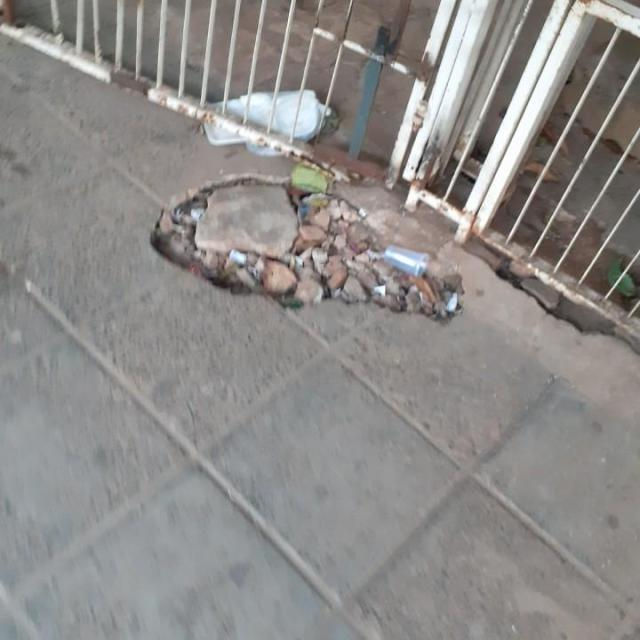litter: (384, 244, 428, 277)
